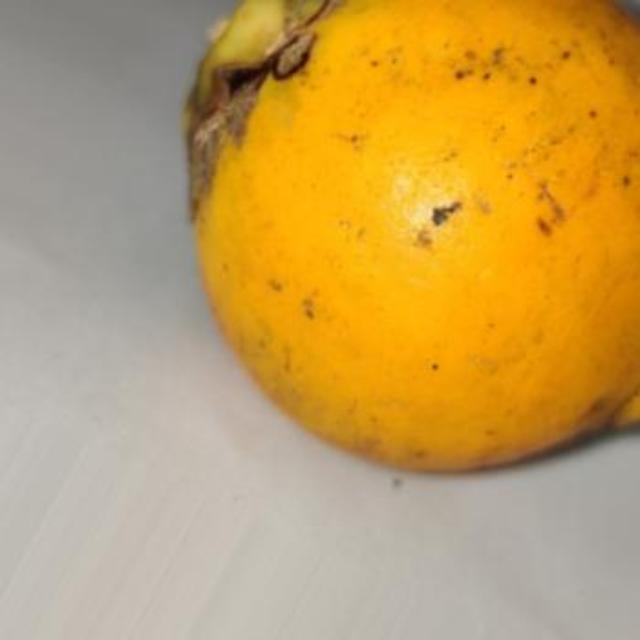good: (185, 0, 638, 477)
